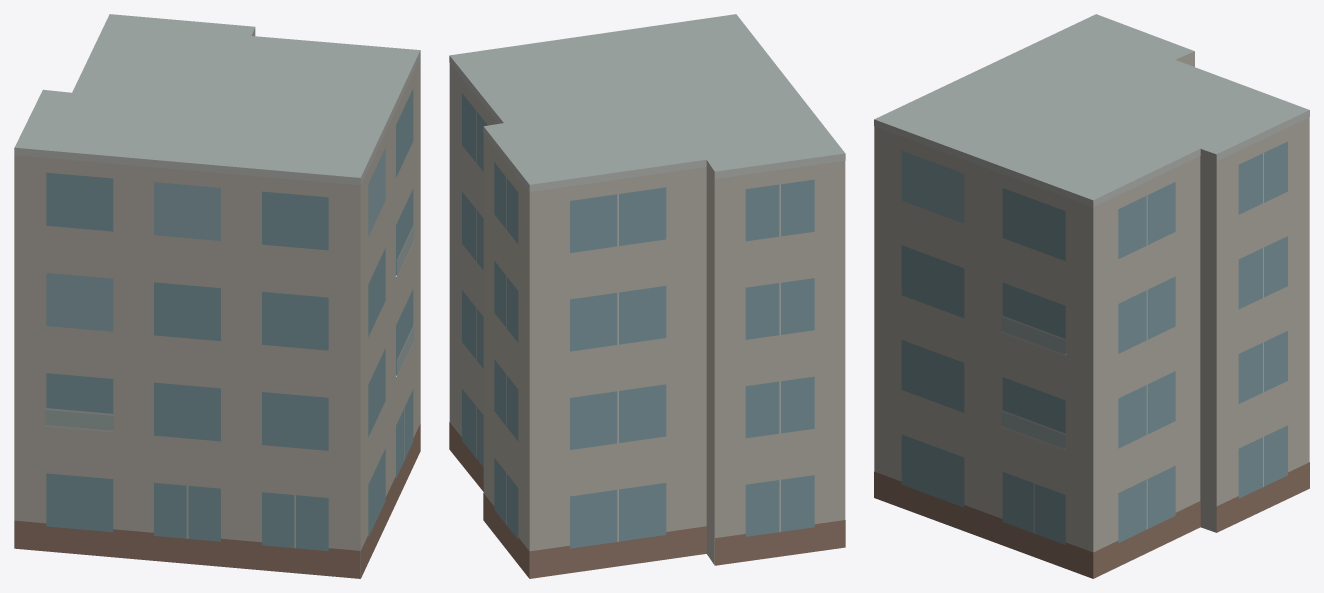
Rendered from survey-upis-32912809.glb.
3 renders of one model, left to right at view 1: azimuth 30°, elevation 25°; view 2: azimuth 150°, elevation 25°; view 3: azimuth 270°, elevation 25°, orthographic. The views are drawn at different scales.
Parts seen in each view (by area): view 1: survey-upis-32912809.tmp; view 2: survey-upis-32912809.tmp; view 3: survey-upis-32912809.tmp.
Boxes of the visible parts, left/top/right/bottom form: survey-upis-32912809.tmp: left=14, top=14, right=420, bottom=578; survey-upis-32912809.tmp: left=449, top=14, right=845, bottom=578; survey-upis-32912809.tmp: left=874, top=14, right=1309, bottom=578.
Bounding box in the file's own units: 13.97 × 13.23 × 13.8.
